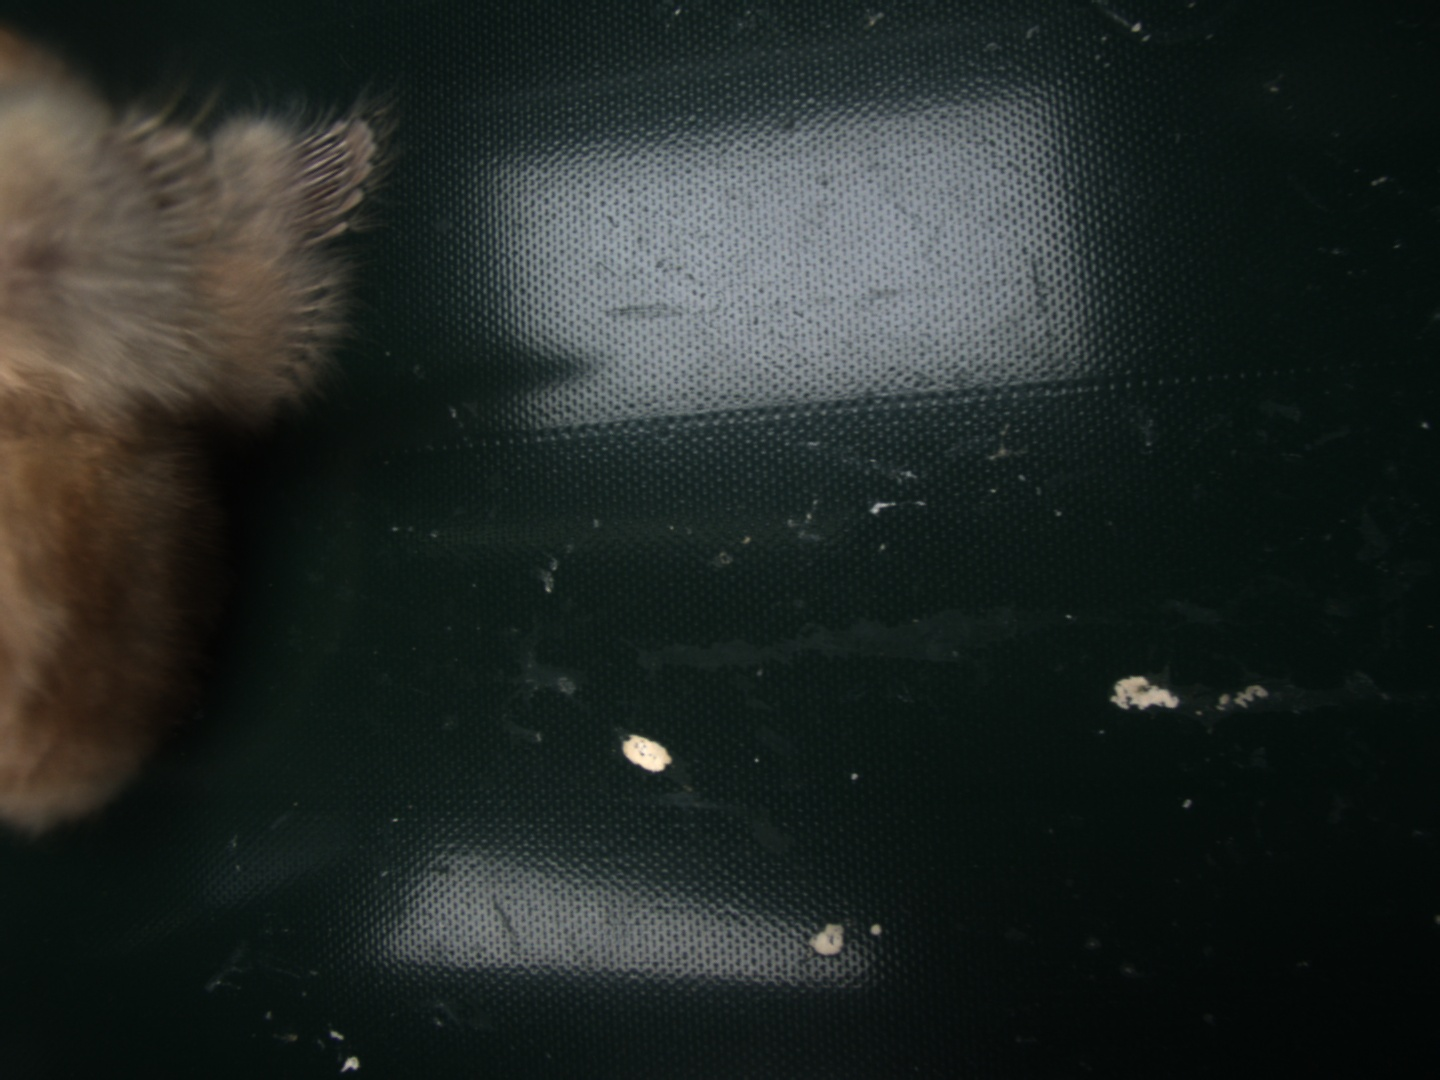female: (272, 116, 378, 248)
